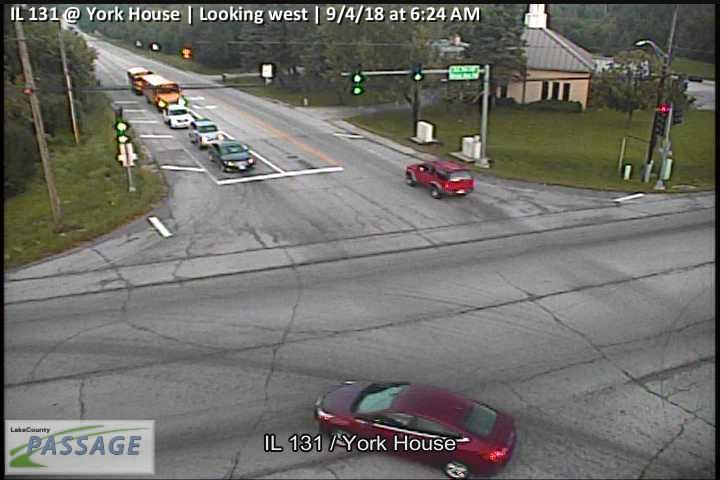Sedan: (314, 378, 517, 480), (404, 157, 476, 200), (207, 139, 255, 173), (188, 117, 225, 148), (160, 102, 195, 128)
Truck: (126, 66, 186, 104)
